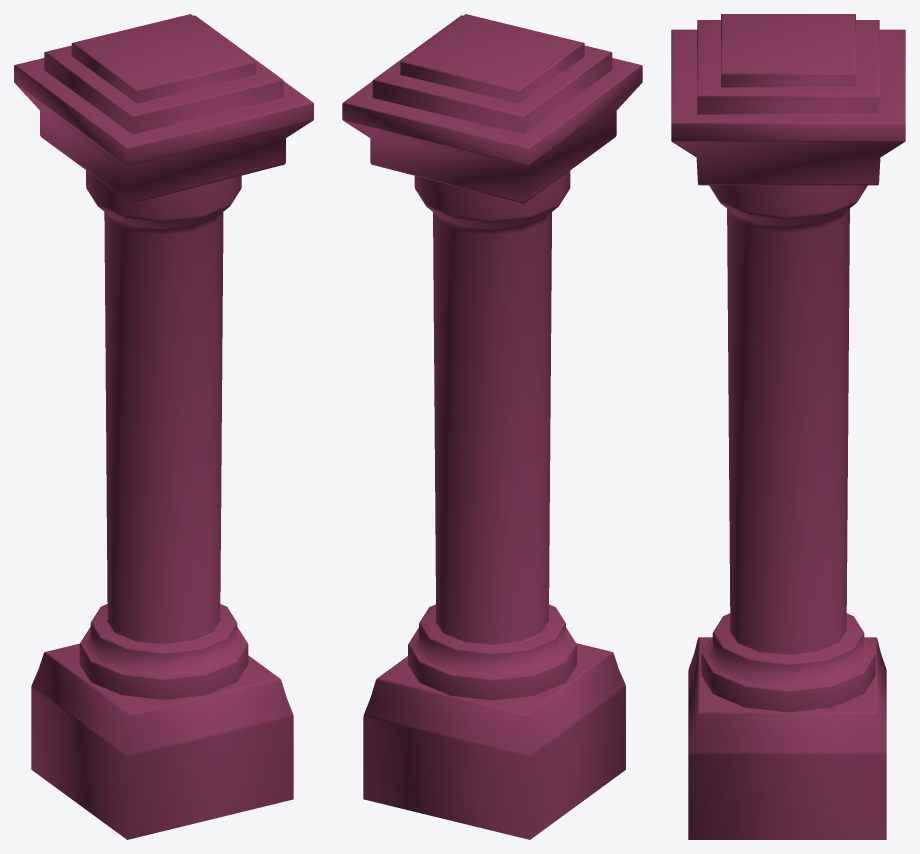
3 views of the same model, side by side, from view 1: azimuth 30°, elevation 25°; view 2: azimuth 150°, elevation 25°; view 3: azimuth 270°, elevation 25° (orthographic). The views are drawn at different scales.
Visible parts, largest first — view 1: 기둥3_low; view 2: 기둥3_low; view 3: 기둥3_low.
Boxes of the visible parts, <box> form: 기둥3_low: <box>14,14,313,839</box>; 기둥3_low: <box>342,14,642,839</box>; 기둥3_low: <box>671,14,905,839</box>.
Bounding box in the file's own units: 138 × 519 × 146.
